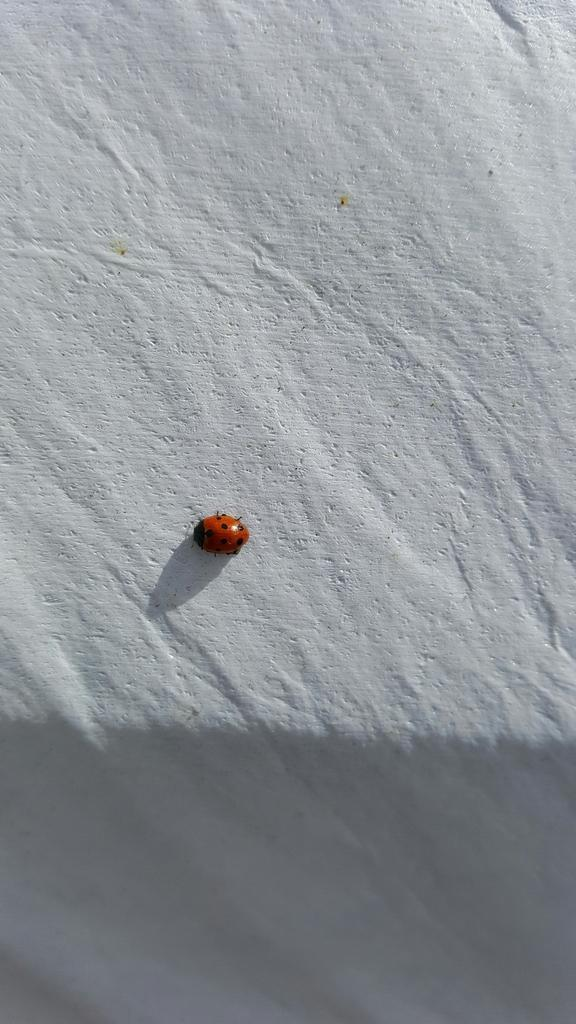ladybug: (191, 510, 252, 560)
